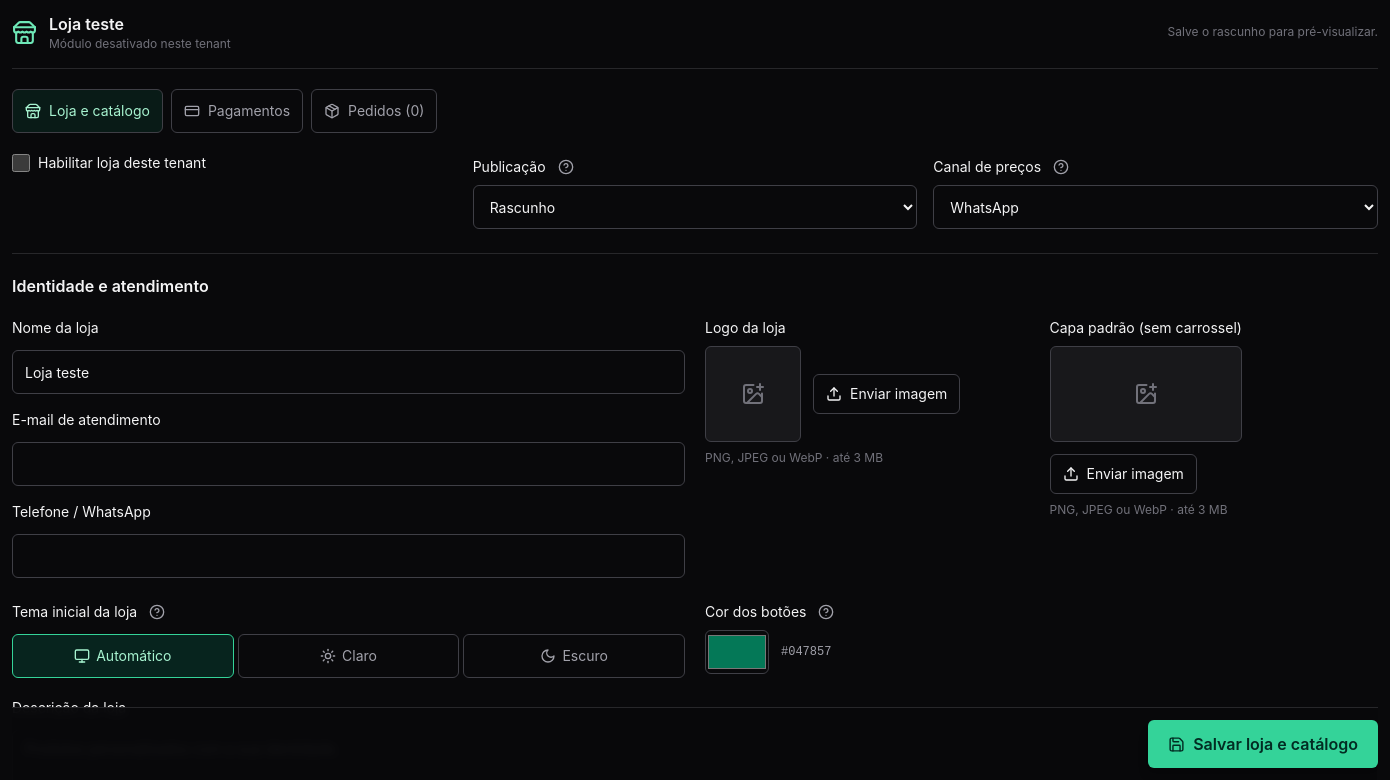
Test: commerce configuration controls › preserves theme and store fields when saving through the redesigned controls
Type "teste@example.com" into the field labelled "E-mail de atendimento" at [348, 464], box left=12, top=442, right=685, bottom=486
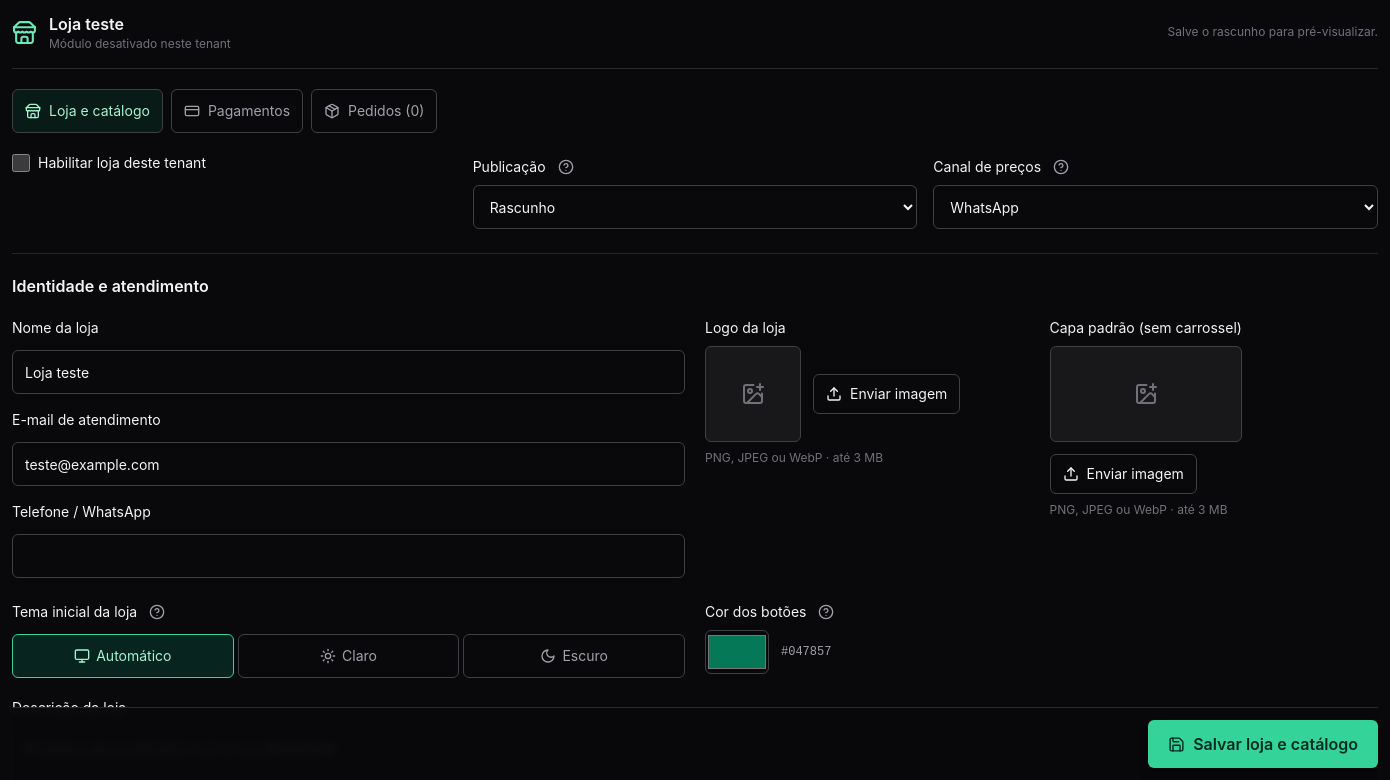
Click the button "Escuro" at [574, 656], box left=463, top=634, right=685, bottom=678
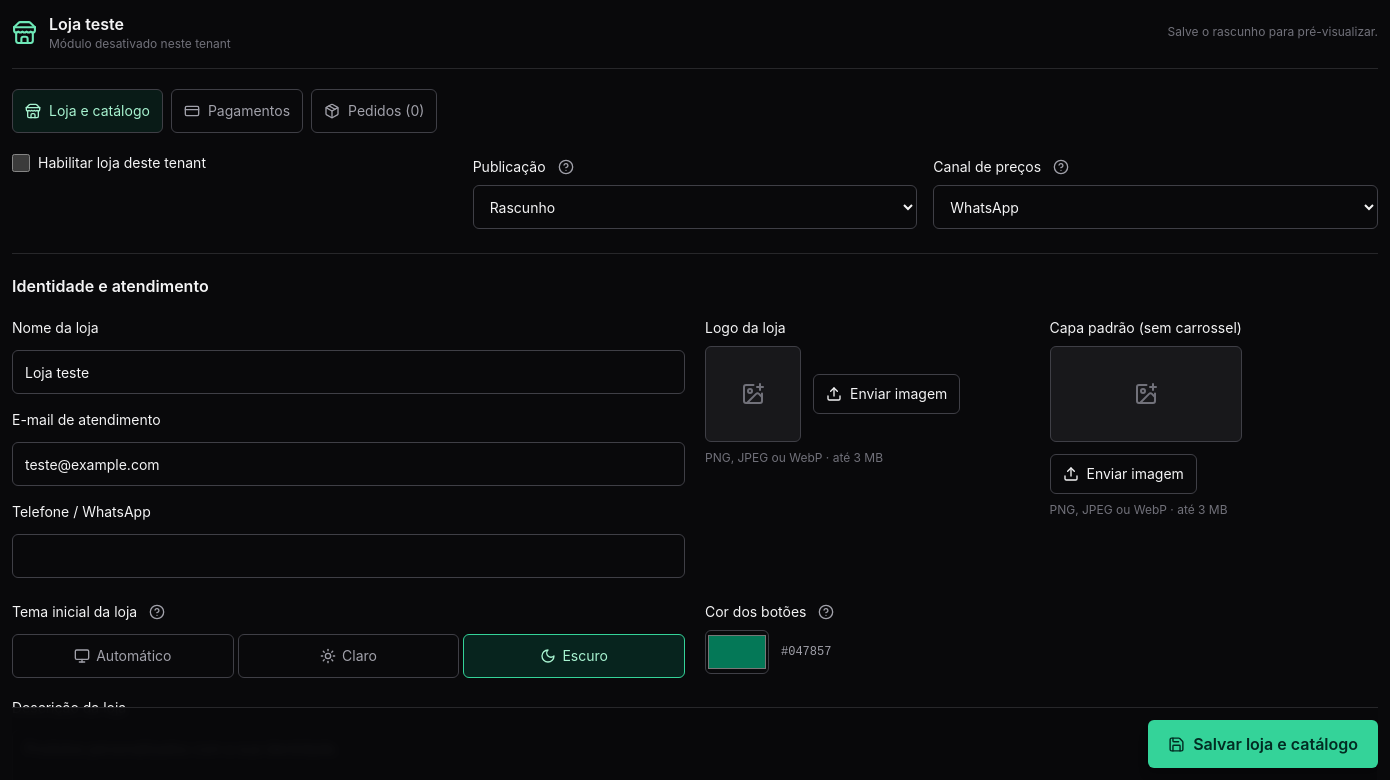
Click the button named "Ajuda: Canal de preços" at [1061, 167], box left=1047, top=153, right=1075, bottom=181
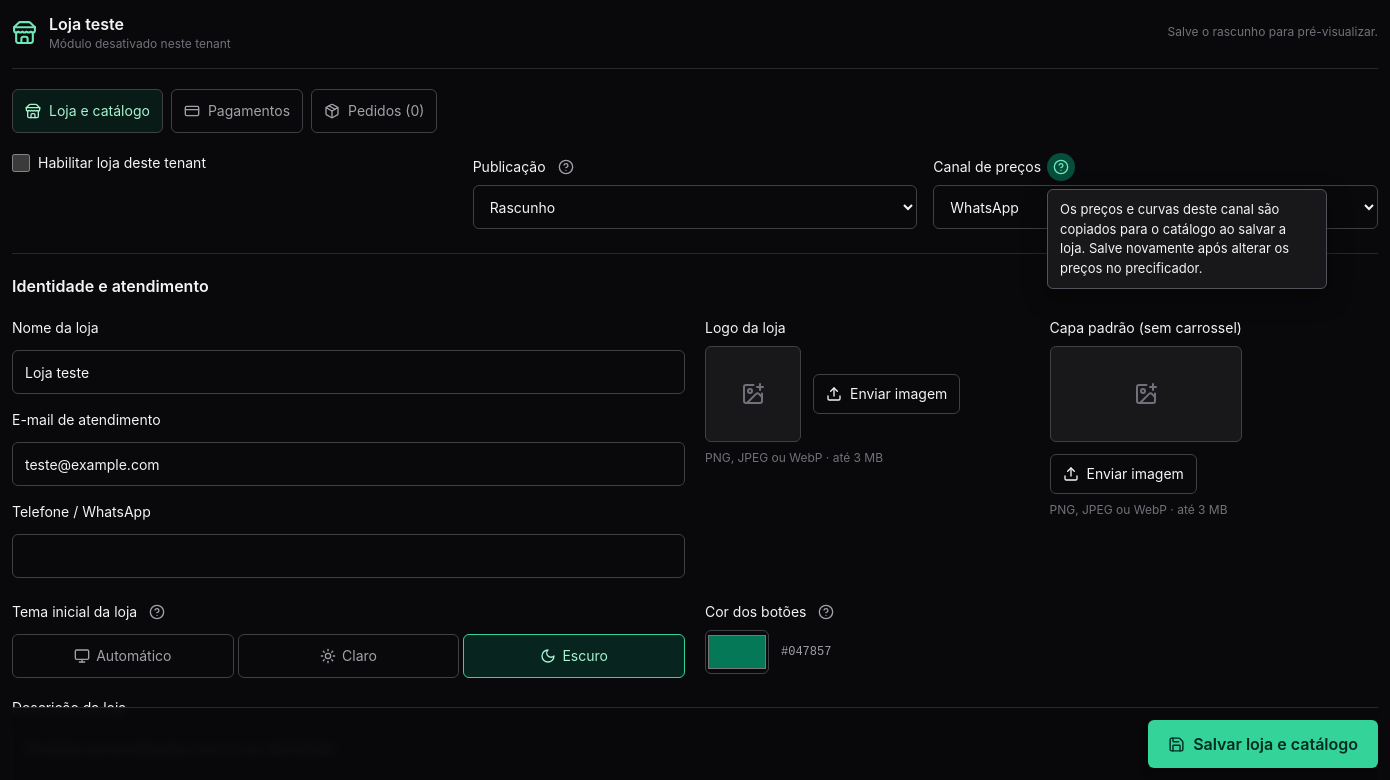
Click the button "Salvar loja e catálogo" at [1263, 744], box left=1148, top=720, right=1378, bottom=768
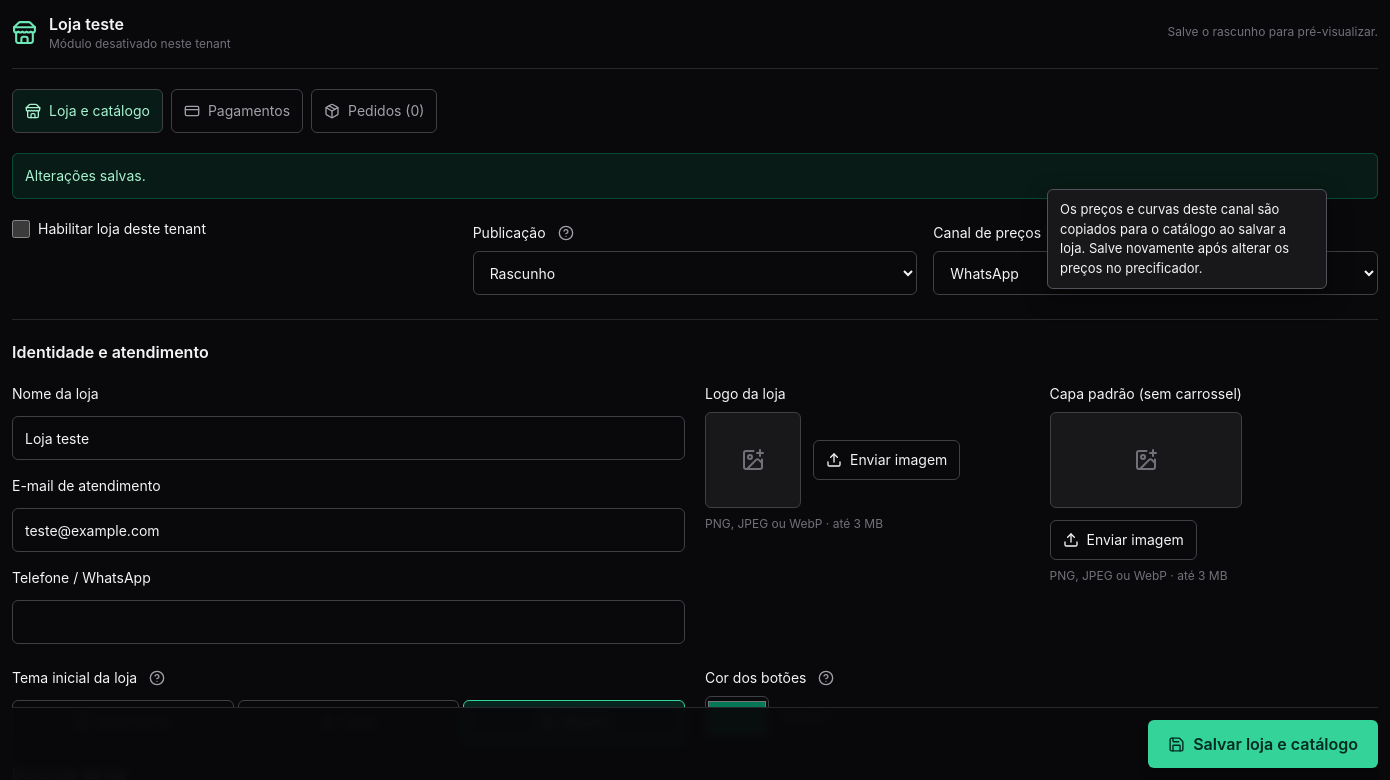
Expected: the message shows "Alterações salvas", left=25, top=167, right=146, bottom=184
